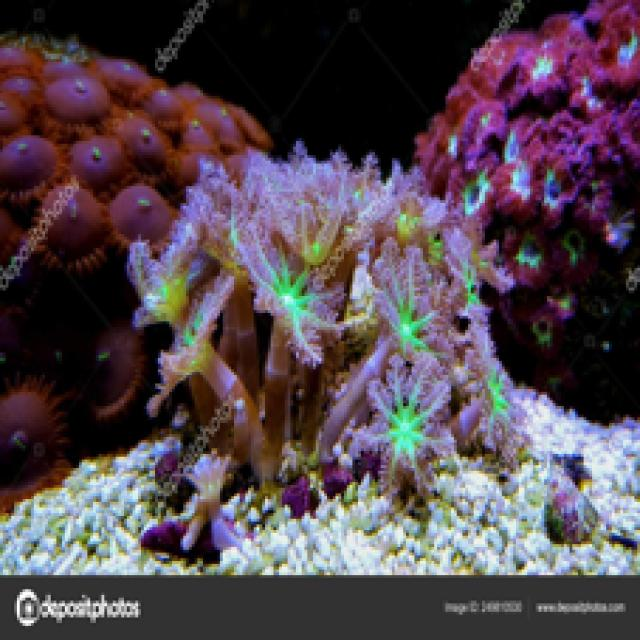Healthy: (128, 150, 511, 489), (415, 1, 638, 390), (1, 38, 269, 289)
